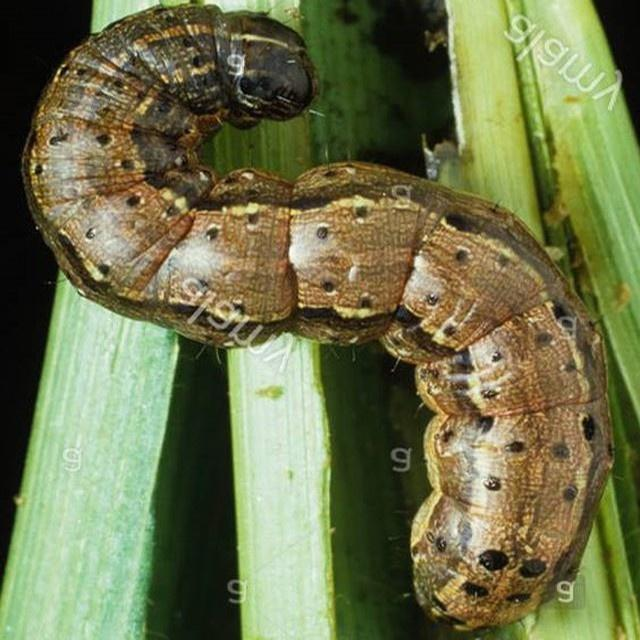Plaga: (28, 3, 616, 626)
